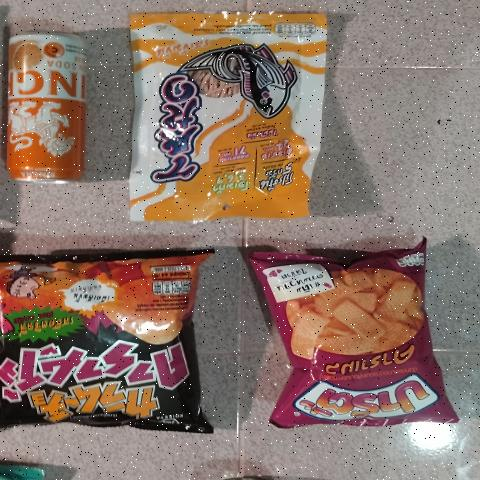karamujo: (0, 248, 201, 428)
party_red: (265, 256, 450, 421)
singha_yellow: (5, 23, 88, 185)
taro_yellow: (129, 15, 320, 214)
